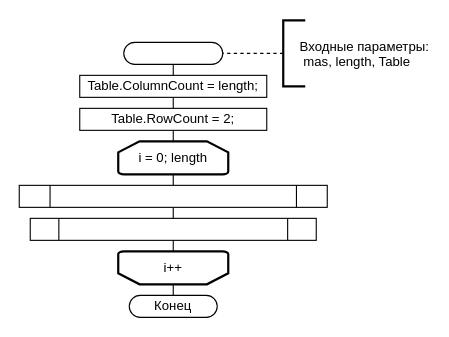
Image size: 449x337. Some labels were removed from this diagram. Each missing label, with the centre of its shape:
Table.Rows[0].Cells[i].Value = "[" + i + "]";: [172,195]
Table.Rows[1].Cells[i].Value = mas[i];: [172,228]
Начало: [173,52]
